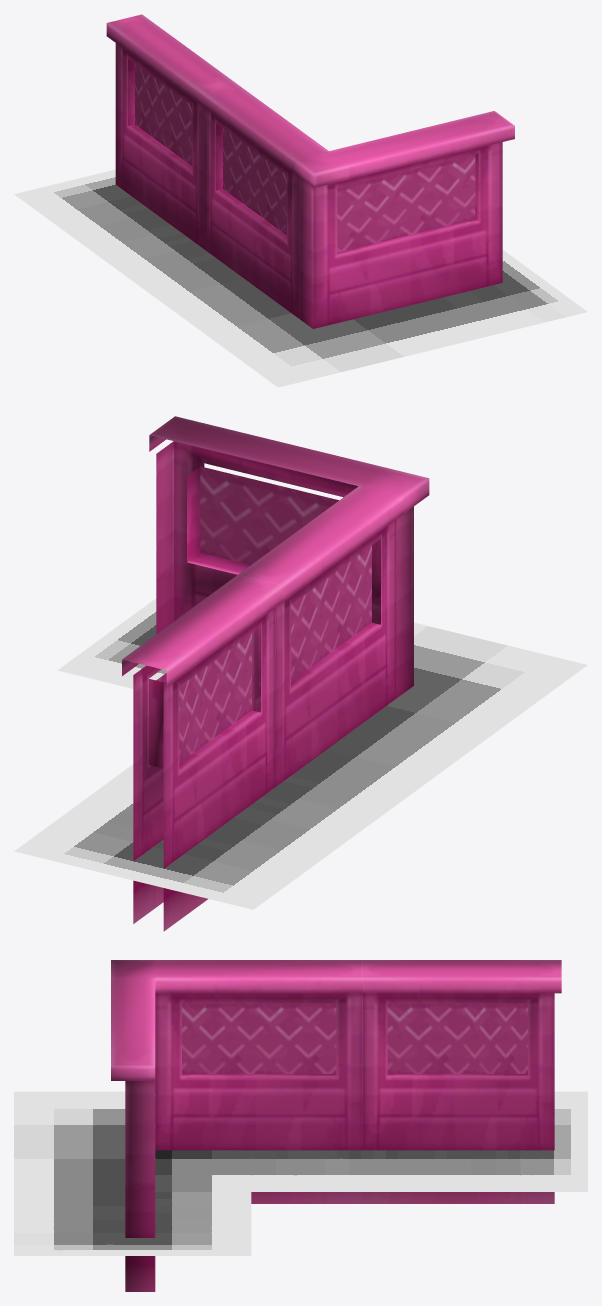
File: int_fence_08.dae
The picture shows the model from 3 angles, top to bottom: view 1: azimuth 30°, elevation 25°; view 2: azimuth 150°, elevation 25°; view 3: azimuth 270°, elevation 25°; orthographic projection. The views are drawn at different scales.
Parts seen in each view (by area): view 1: int_fence_08; view 2: int_fence_08; view 3: int_fence_08.
Boxes of the visible parts, box(x1,y1,x2,y2) form: int_fence_08: box(14, 14, 587, 387); int_fence_08: box(14, 416, 587, 931); int_fence_08: box(14, 960, 587, 1291).
Size of the model in its own units: 46.05 by 29.84 by 68.
2 materials, 2 textured.
